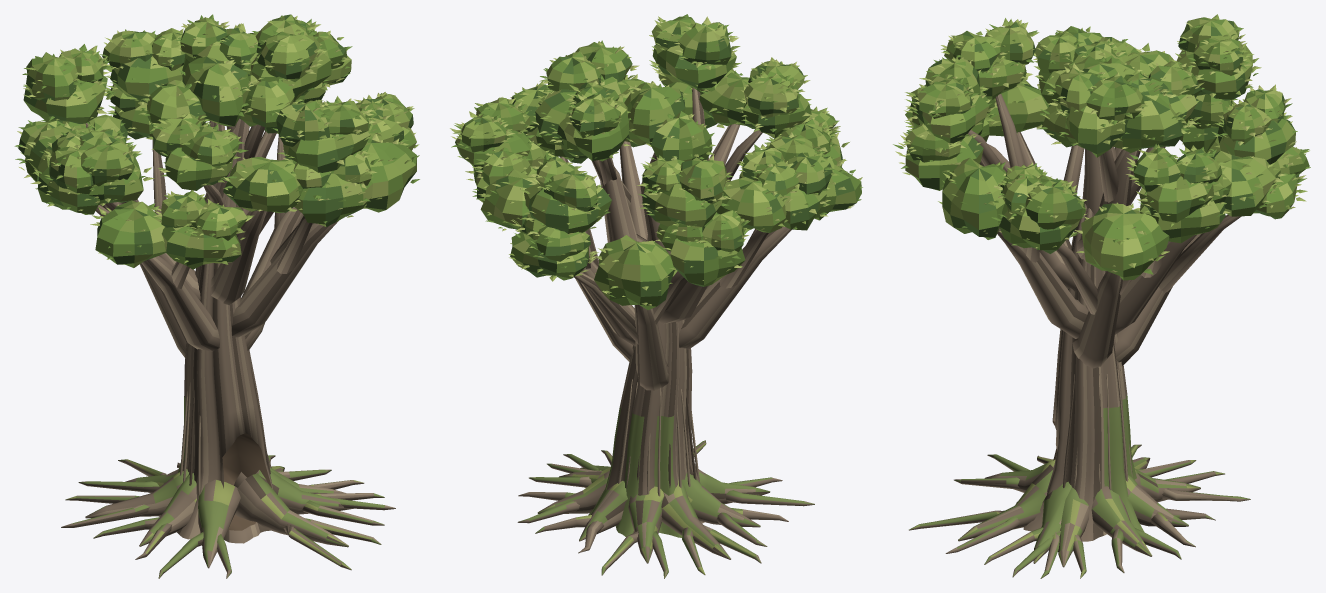
3 renders of one model, left to right at view 1: azimuth 30°, elevation 25°; view 2: azimuth 150°, elevation 25°; view 3: azimuth 270°, elevation 25°, orthographic. The views are drawn at different scales.
Visible parts, largest first — view 1: Ancient continuous hollow trunk, Individual broadleaf silhouette sprays, Scalloped broadleaf crown 28, Scalloped broadleaf crown 35, Scalloped broadleaf crown 56, Twisting scaffold limb 06, Fluted buttress root 07, Twisting scaffold limb 04, Scalloped broadleaf crown 42, Scalloped broadleaf crown 43, Fluted buttress root 06, Scalloped broadleaf crown 32 (+47 smaller); view 2: Ancient continuous hollow trunk, Individual broadleaf silhouette sprays, Scalloped broadleaf crown 14, Twisting scaffold limb 04, Scalloped broadleaf crown 21, Scalloped broadleaf crown 56, Scalloped broadleaf crown 18, Scalloped broadleaf crown 11, Twisting scaffold limb 02, Scalloped broadleaf crown 22, Scalloped broadleaf crown 58, Scalloped broadleaf crown 07 (+48 smaller); view 3: Ancient continuous hollow trunk, Individual broadleaf silhouette sprays, Scalloped broadleaf crown 00, Scalloped broadleaf crown 42, Twisting scaffold limb 06, Twisting scaffold limb 00, Scalloped broadleaf crown 07, Scalloped broadleaf crown 49, Scalloped broadleaf crown 03, Twisting scaffold limb 01, Scalloped broadleaf crown 08, Scalloped broadleaf crown 01 (+54 smaller).
Boxes of the visible parts, left/top/right/bottom form: Ancient continuous hollow trunk: left=158, top=263, right=272, bottom=543; Individual broadleaf silhouette sprays: left=14, top=14, right=419, bottom=264; Scalloped broadleaf crown 28: left=95, top=200, right=165, bottom=267; Scalloped broadleaf crown 35: left=223, top=157, right=303, bottom=212; Scalloped broadleaf crown 56: left=182, top=56, right=249, bottom=126; Twisting scaffold limb 06: left=232, top=221, right=338, bottom=337; Fluted buttress root 07: left=235, top=473, right=348, bottom=547; Twisting scaffold limb 04: left=143, top=256, right=219, bottom=351; Scalloped broadleaf crown 42: left=361, top=138, right=416, bottom=212; Scalloped broadleaf crown 43: left=294, top=173, right=372, bottom=226; Fluted buttress root 06: left=198, top=479, right=240, bottom=568; Scalloped broadleaf crown 32: left=161, top=226, right=241, bottom=269; Ancient continuous hollow trunk: left=588, top=270, right=704, bottom=537; Individual broadleaf silhouette sprays: left=450, top=14, right=862, bottom=305; Scalloped broadleaf crown 14: left=594, top=235, right=674, bottom=309; Twisting scaffold limb 04: left=679, top=227, right=791, bottom=349; Scalloped broadleaf crown 21: left=716, top=177, right=786, bottom=232; Scalloped broadleaf crown 56: left=624, top=82, right=685, bottom=145; Scalloped broadleaf crown 18: left=670, top=238, right=745, bottom=286; Scalloped broadleaf crown 11: left=524, top=183, right=611, bottom=233; Twisting scaffold limb 02: left=634, top=304, right=669, bottom=390; Scalloped broadleaf crown 22: left=642, top=183, right=723, bottom=228; Scalloped broadleaf crown 58: left=651, top=111, right=712, bottom=161; Scalloped broadleaf crown 07: left=480, top=169, right=537, bottom=229; Ancient continuous hollow trunk: left=1016, top=204, right=1144, bottom=541; Individual broadleaf silhouette sprays: left=893, top=14, right=1310, bottom=274; Scalloped broadleaf crown 00: left=1081, top=203, right=1169, bottom=280; Scalloped broadleaf crown 42: left=942, top=158, right=1006, bottom=239; Twisting scaffold limb 06: left=997, top=228, right=1088, bottom=338; Twisting scaffold limb 00: left=1072, top=271, right=1122, bottom=368; Scalloped broadleaf crown 07: left=1211, top=150, right=1275, bottom=216; Scalloped broadleaf crown 49: left=1113, top=93, right=1182, bottom=152; Scalloped broadleaf crown 03: left=1025, top=181, right=1085, bottom=229; Twisting scaffold limb 01: left=1114, top=234, right=1196, bottom=334; Scalloped broadleaf crown 08: left=1146, top=176, right=1214, bottom=222; Scalloped broadleaf crown 01: left=999, top=203, right=1079, bottom=253.
Size of the model in its own units: 8.25 by 10.35 by 8.35.
